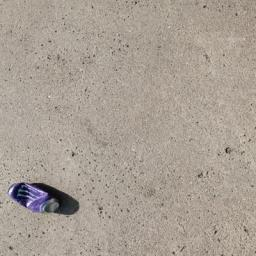FOD: (8, 179, 84, 221)
